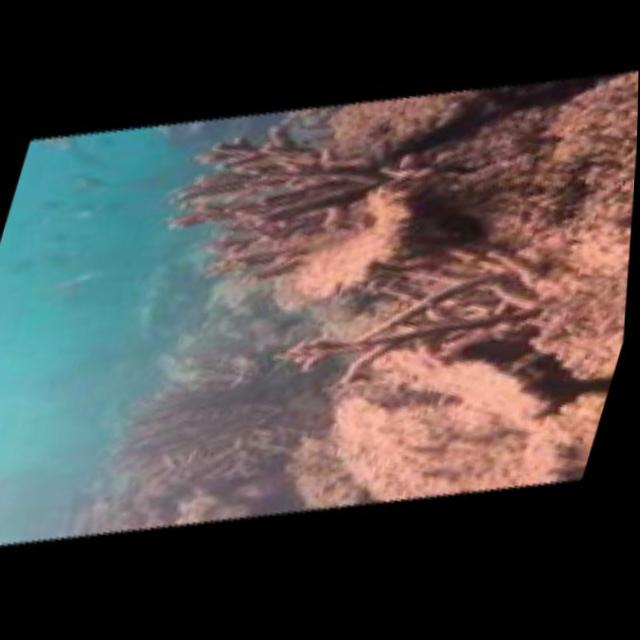Dead Coral: (99, 63, 622, 584), (97, 40, 639, 507), (122, 67, 400, 344)
